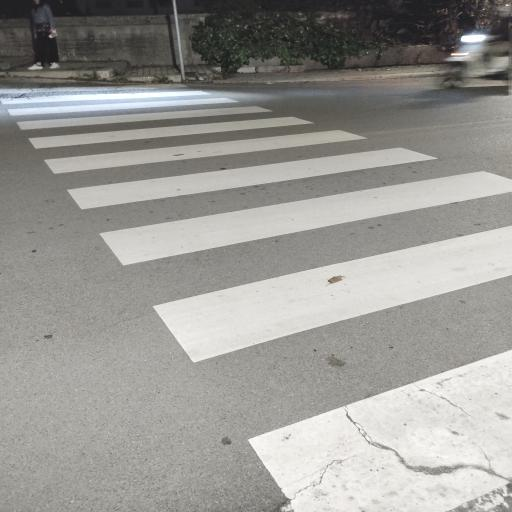crosswalk: (94, 166, 511, 371), (4, 95, 292, 135)
